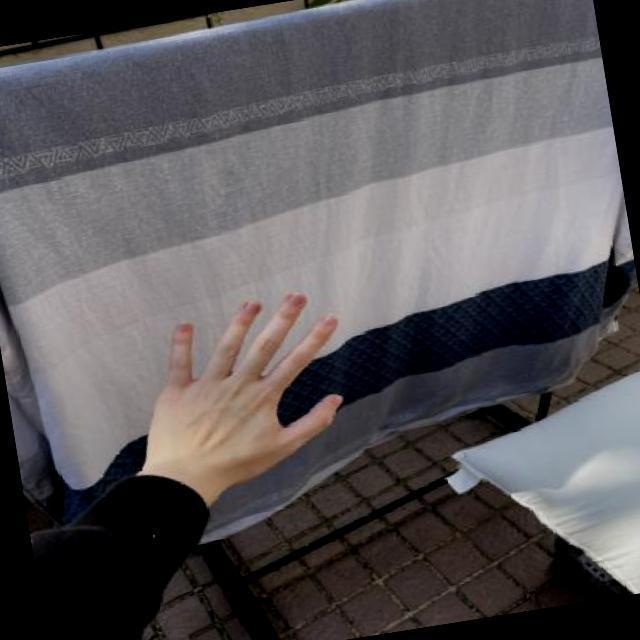hand: (110, 272, 388, 510)
